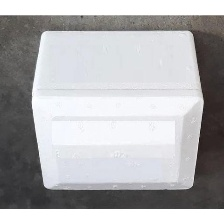foam_box: (25, 22, 210, 198)
